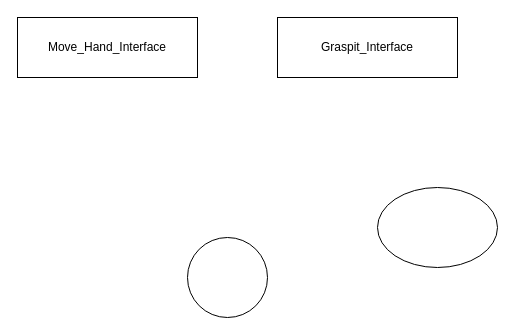
Image size: 515x335. Some labels were removed from this diagram. The shapes that lost their labels are listed below. From the top down, each one's centre as x and y in pixels, then its label:
At (437,227): "Test".
At (227,277): "Another test".
